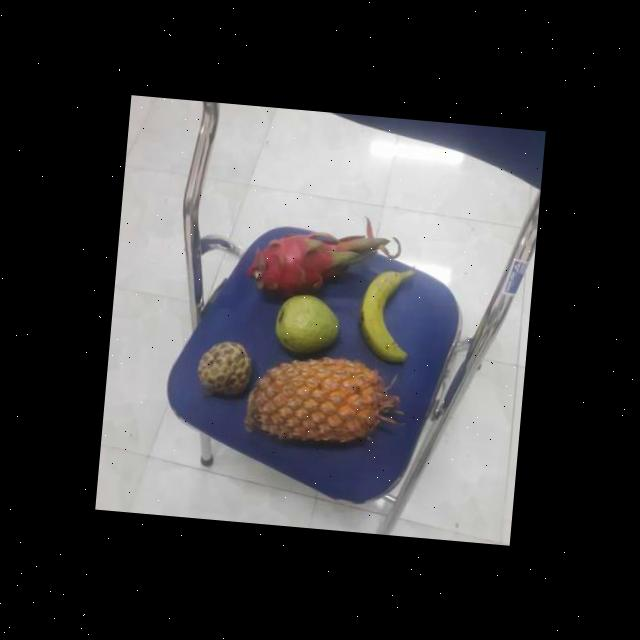Sakya fruit: (196, 340, 258, 400)
guava: (270, 292, 346, 360)
pineapple: (244, 351, 396, 448)
pitaya: (250, 227, 352, 303)
